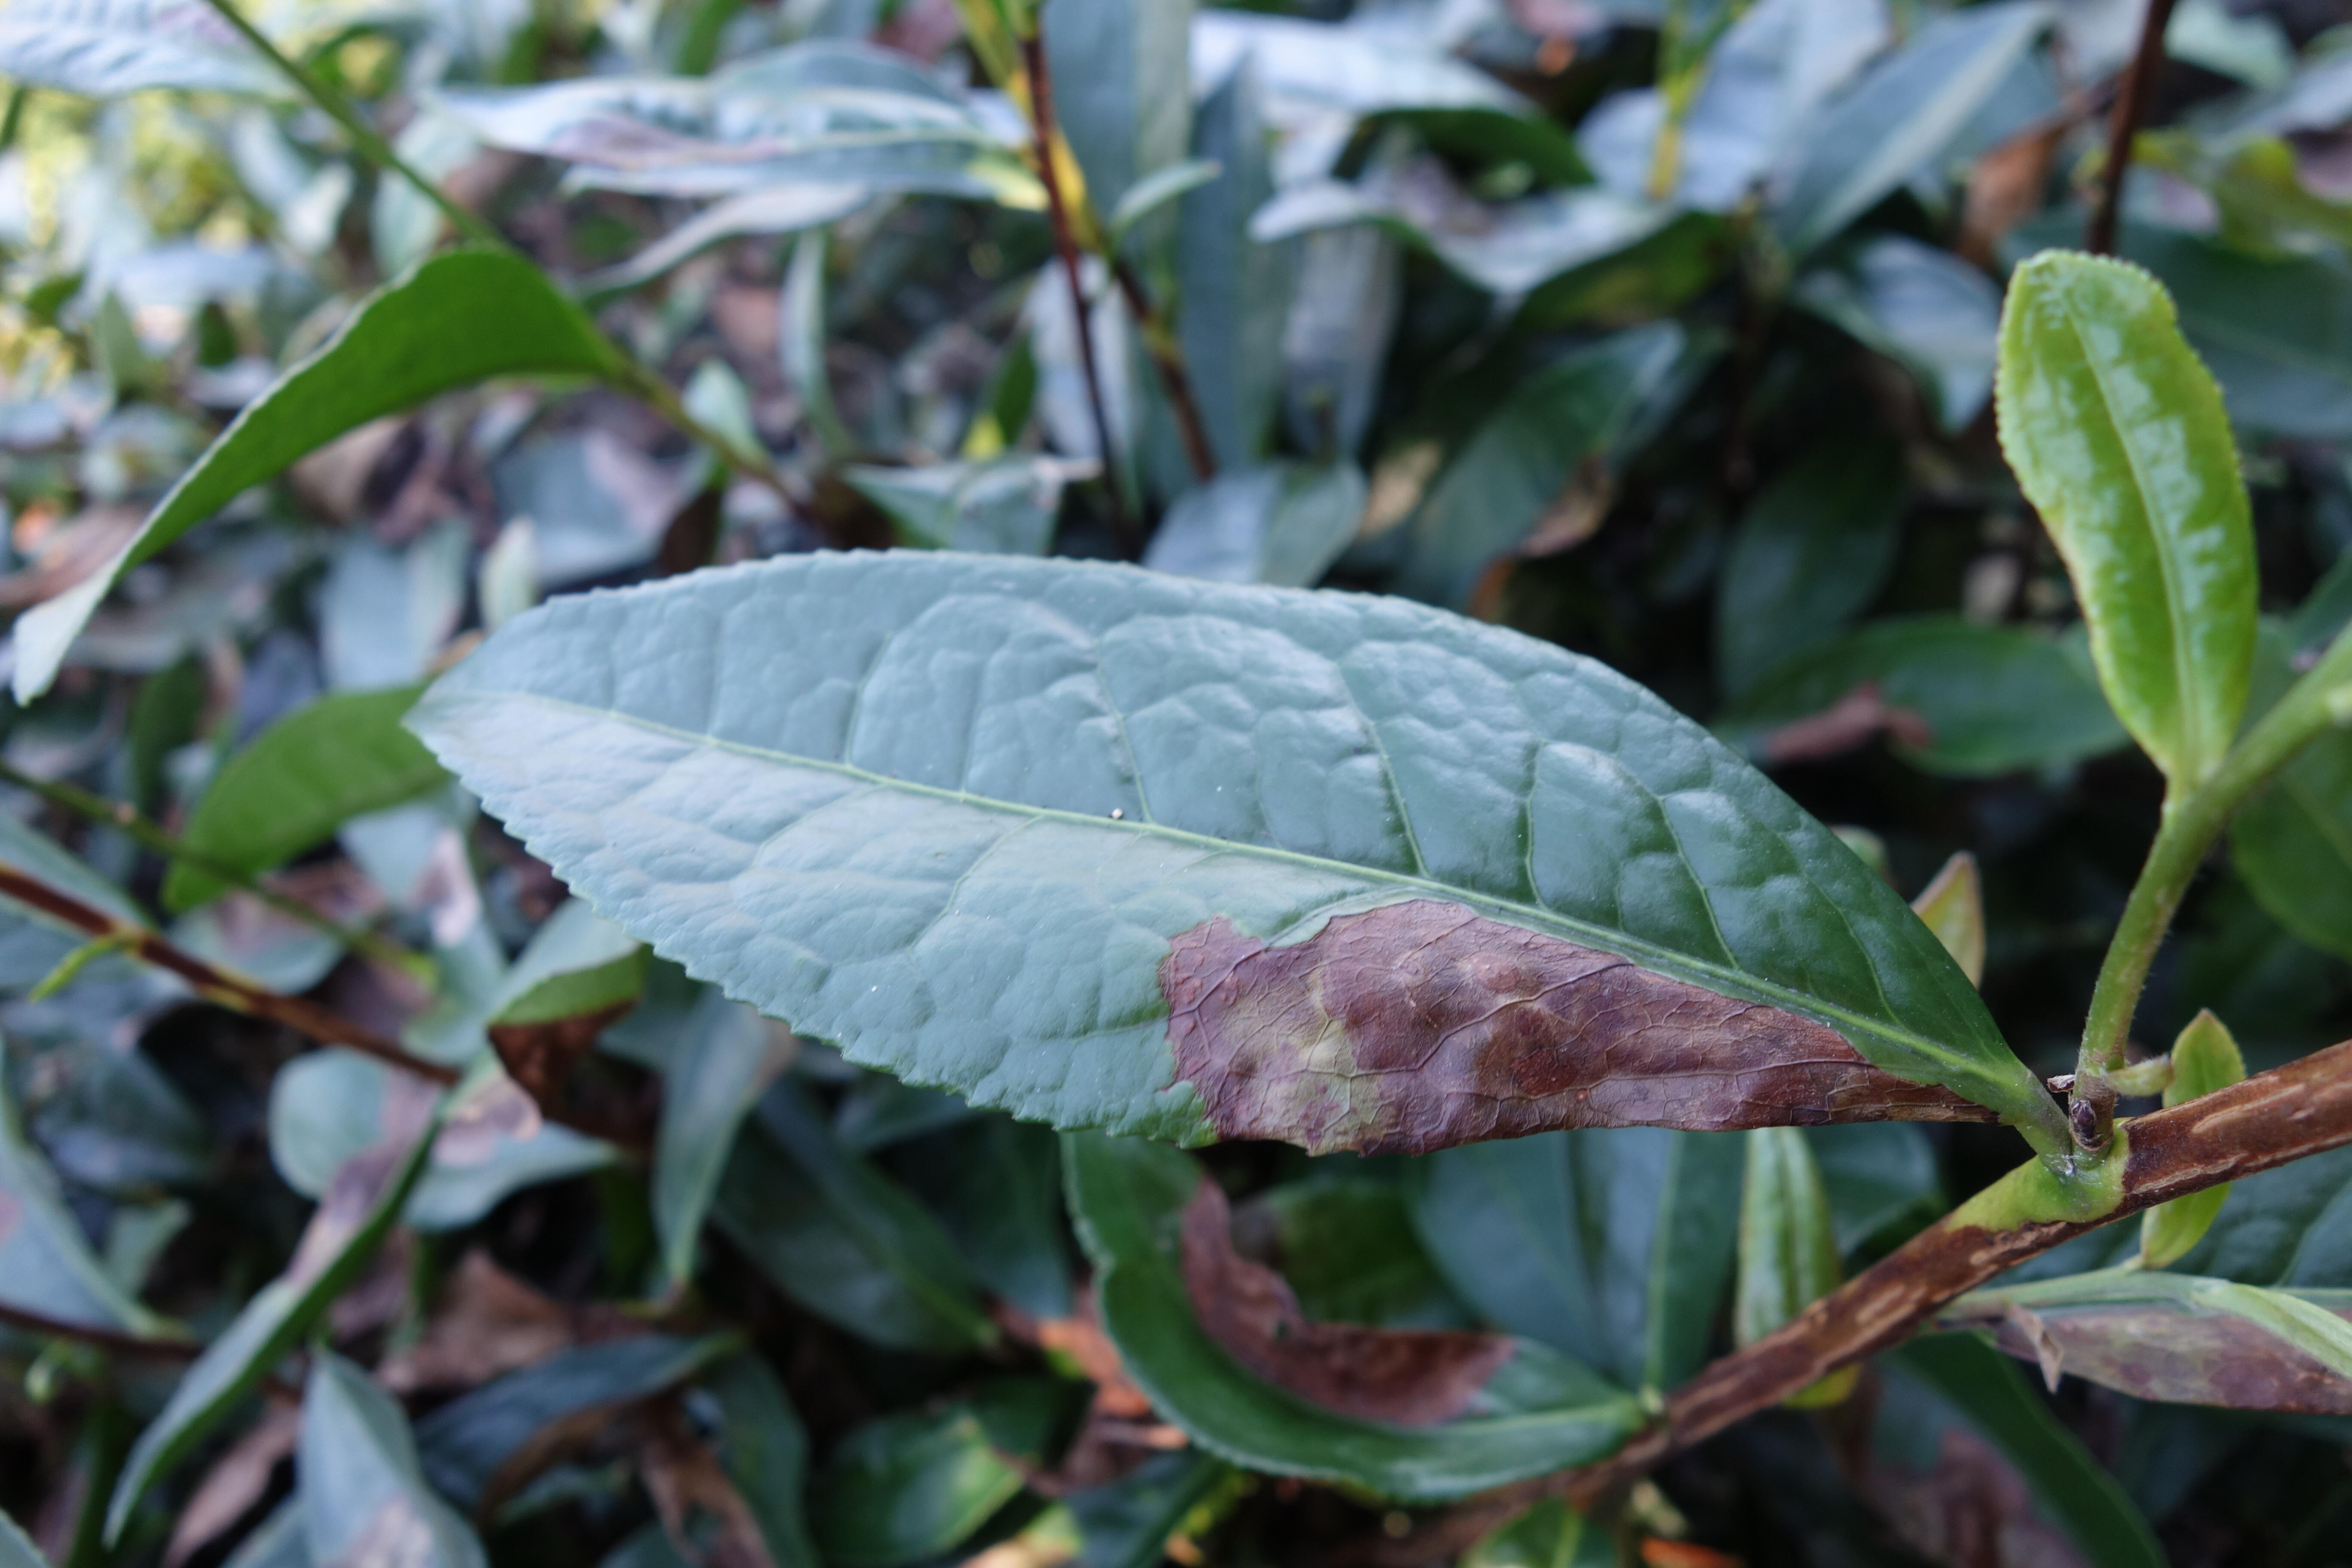healthy: (1995, 247, 2261, 791)
tanju_high: (401, 546, 2037, 1165), (1057, 1130, 1655, 1501)
